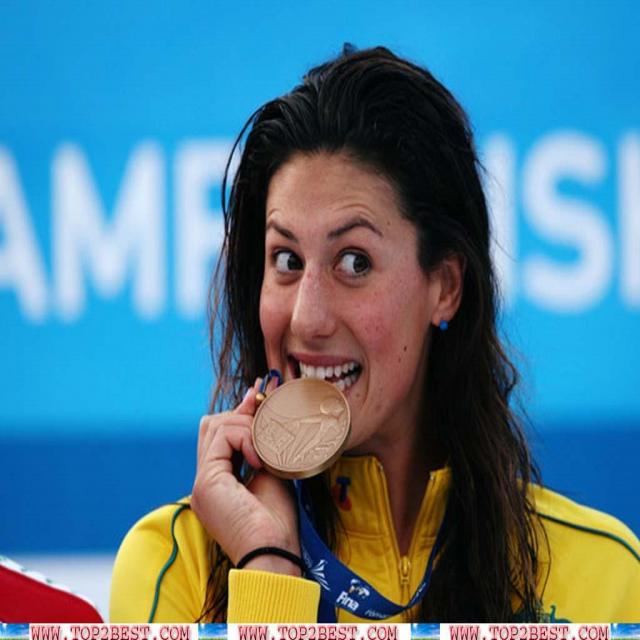nomask: (258, 173, 427, 460)
